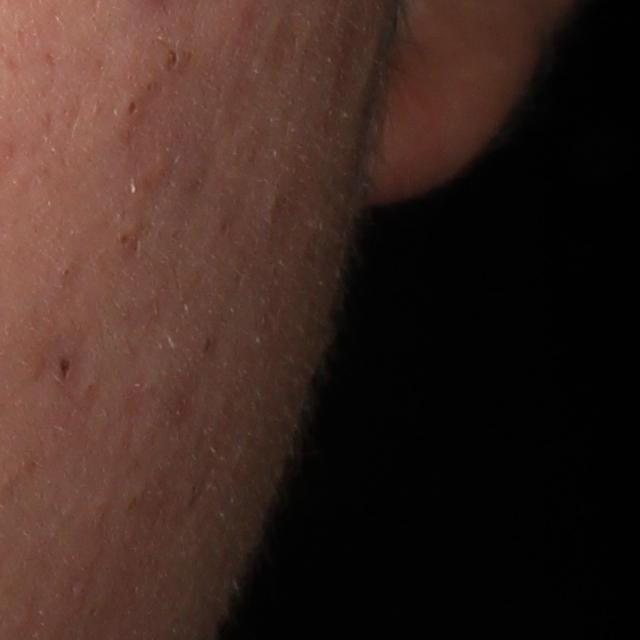comedo: (162, 41, 188, 74), (115, 95, 146, 121), (51, 351, 75, 383), (115, 231, 132, 255)
